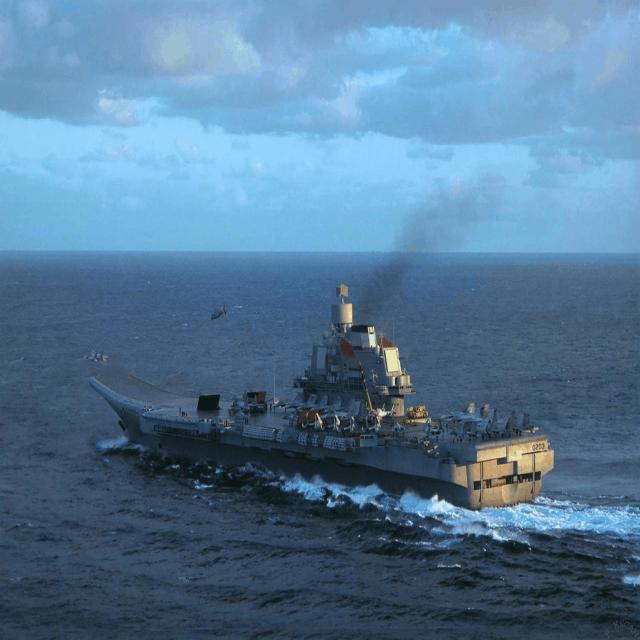navalvessels: (86, 289, 554, 508)
